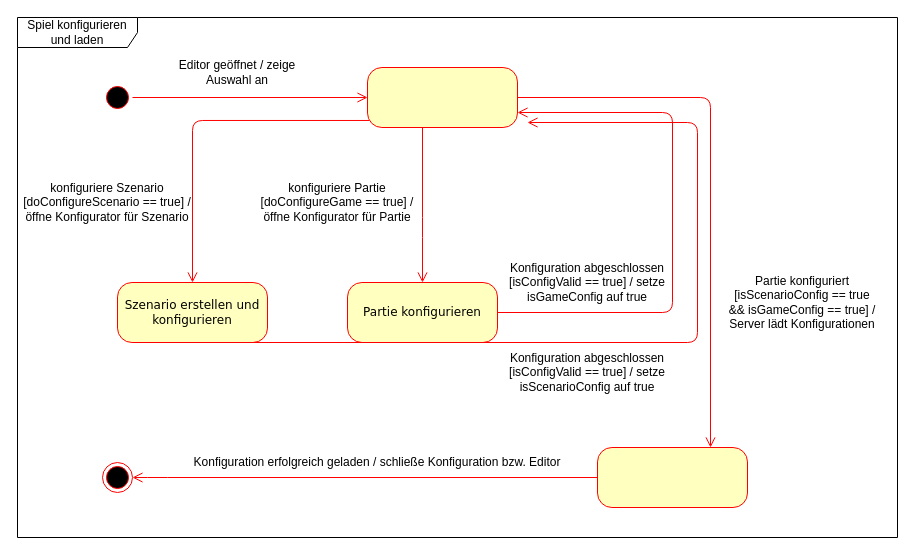
This 915x555 diagram has some shape labels left out. Each missing label, with the box of its shape:
Auswahl Szenario- oder Partiekonfiguration: (366, 66, 518, 128)
Konfiguration von Server geladen: (596, 446, 748, 508)
